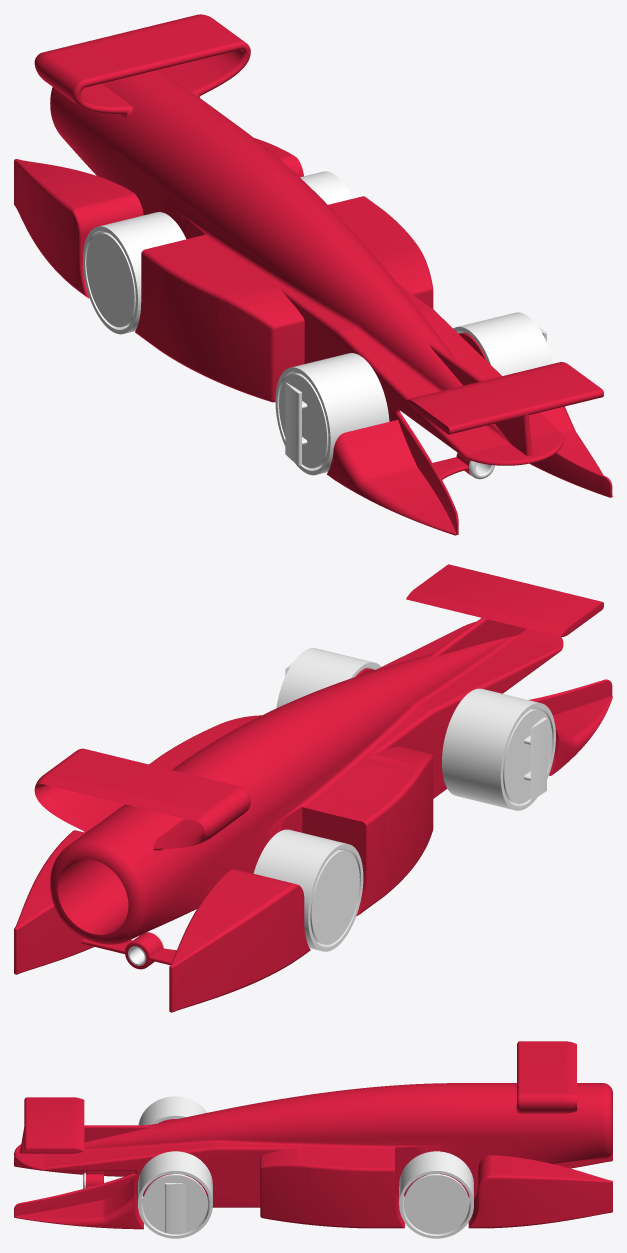
3 renders of one model, top to bottom at view 1: azimuth 30°, elevation 25°; view 2: azimuth 150°, elevation 25°; view 3: azimuth 270°, elevation 25°, orthographic. The views are drawn at different scales.
Parts seen in each view (by area): view 1: 10 P2.4 Assembly, 10 P2.4 Assembly.002, 10 P2.4 Assembly.003, 10 P2.4 Assembly.001, 10 P2.4 Assembly.004; view 2: 10 P2.4 Assembly, 10 P2.4 Assembly.002, 10 P2.4 Assembly.003, 10 P2.4 Assembly.001; view 3: 10 P2.4 Assembly, 10 P2.4 Assembly.001, 10 P2.4 Assembly.004, 10 P2.4 Assembly.002.
Boxes of the visible parts, bbox=[...] form: 10 P2.4 Assembly: bbox=[14, 14, 612, 535]; 10 P2.4 Assembly.002: bbox=[275, 353, 389, 475]; 10 P2.4 Assembly.003: bbox=[83, 212, 185, 334]; 10 P2.4 Assembly.001: bbox=[453, 312, 553, 375]; 10 P2.4 Assembly.004: bbox=[300, 171, 352, 204]; 10 P2.4 Assembly: bbox=[14, 564, 612, 1012]; 10 P2.4 Assembly.002: bbox=[442, 688, 555, 810]; 10 P2.4 Assembly.003: bbox=[253, 829, 363, 951]; 10 P2.4 Assembly.001: bbox=[276, 648, 381, 708]; 10 P2.4 Assembly: bbox=[14, 1041, 612, 1229]; 10 P2.4 Assembly.001: bbox=[138, 1151, 212, 1238]; 10 P2.4 Assembly.004: bbox=[399, 1151, 473, 1238]; 10 P2.4 Assembly.002: bbox=[138, 1096, 207, 1125].
Size of the model in its own units: 12.35 by 9.35 by 37.95.
